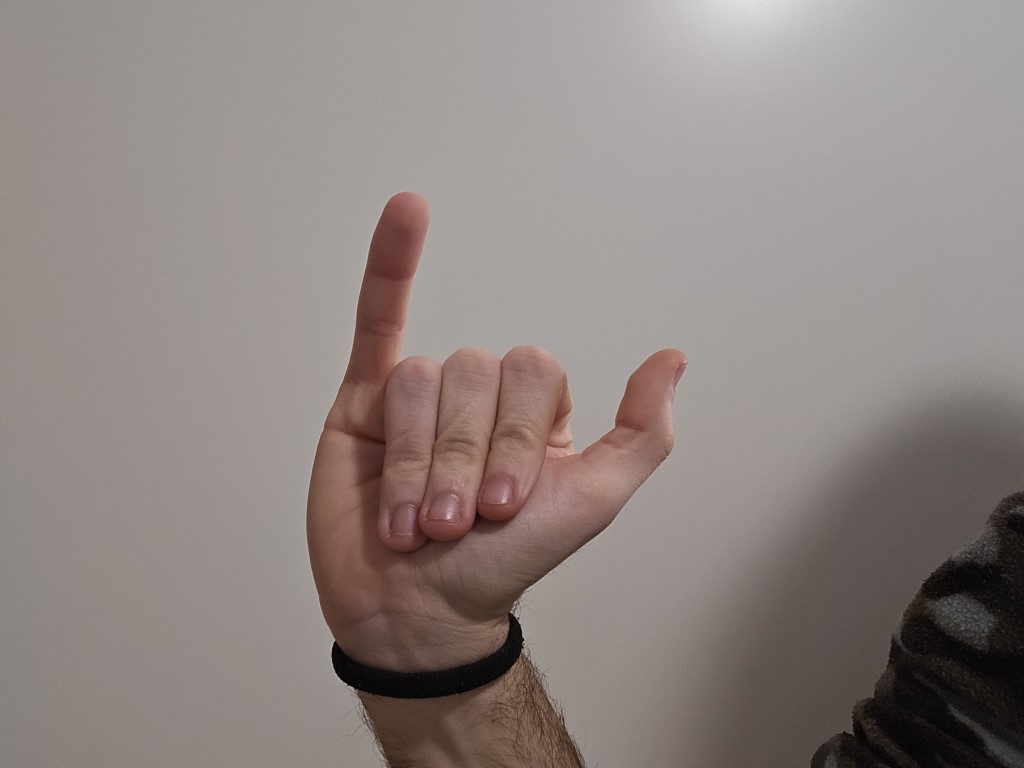y: (261, 160, 713, 645)
